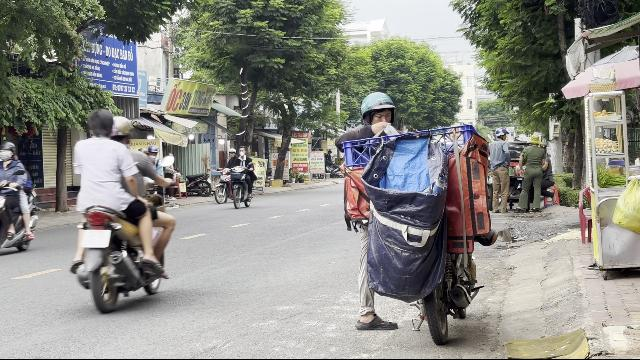helmet: (109, 115, 133, 144), (1, 142, 16, 160)
licenseplate: (81, 229, 111, 247)
motorcyclist: (66, 109, 176, 312), (0, 140, 38, 256)
nohelmet: (85, 108, 115, 138)
